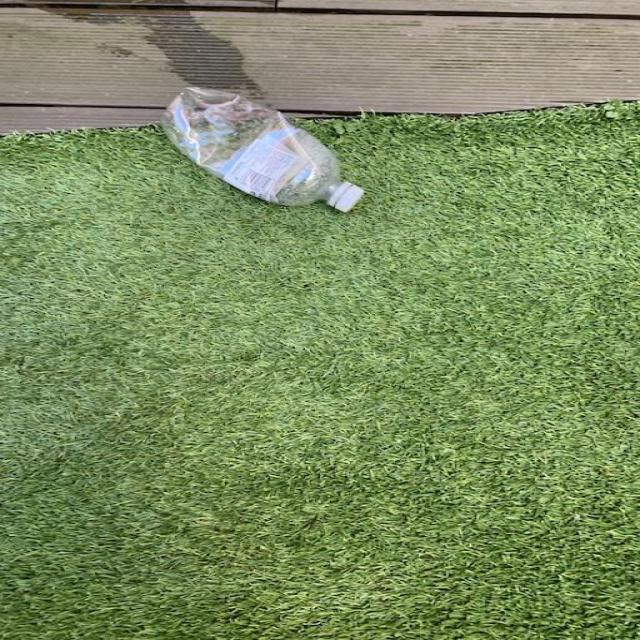chai: (164, 87, 364, 215)
